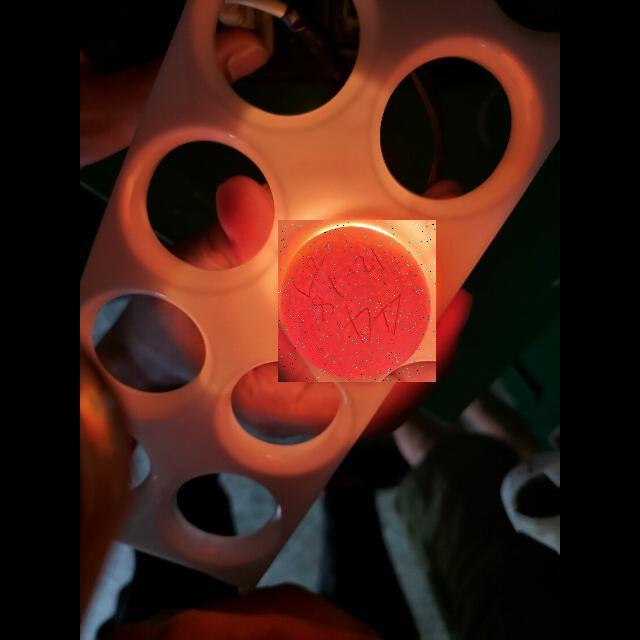Infertile: (278, 220, 436, 382)
